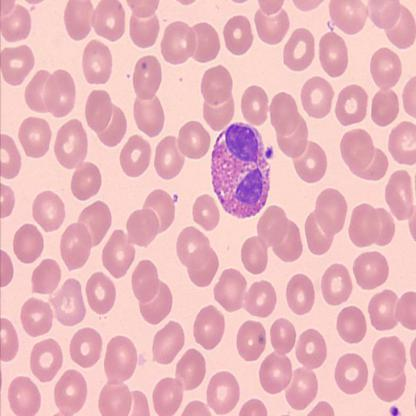Eosinophil: (211, 120, 274, 221)
